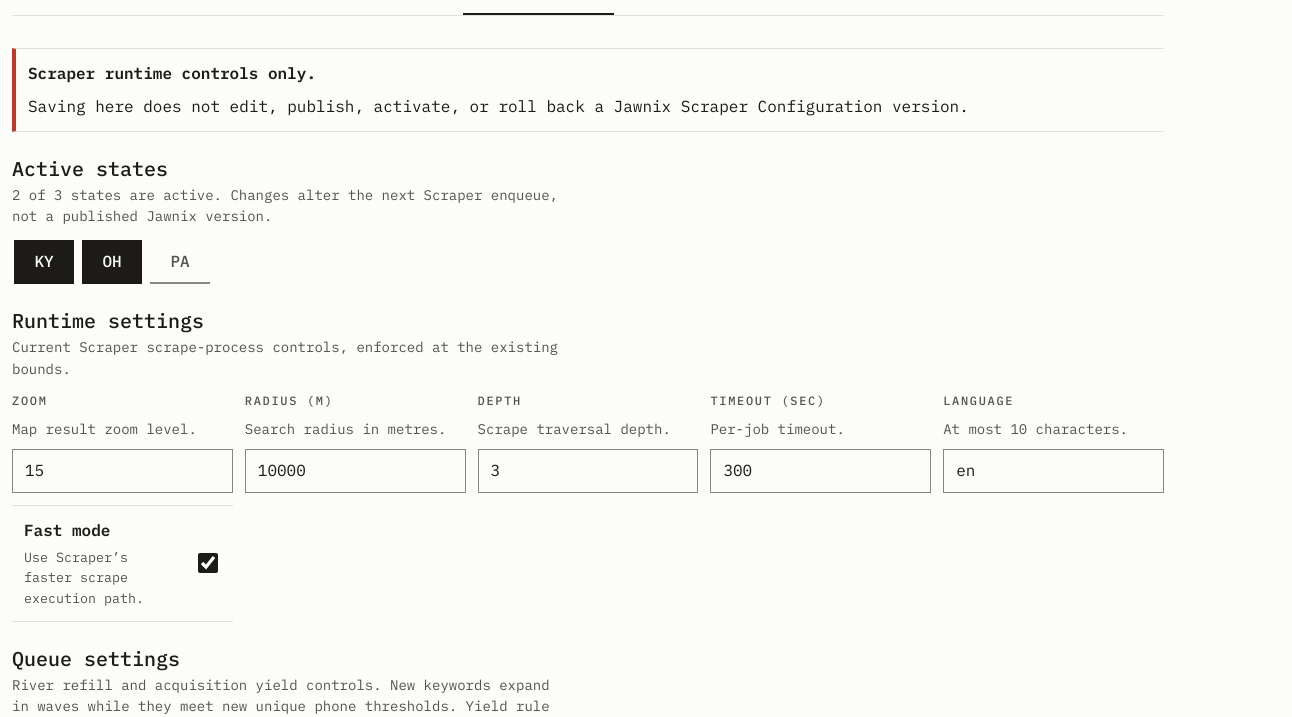
Test: runtime configuration parity › keeps save unavailable until exact preview and preserves enqueue
The image size is (1292, 717).
Replace the text in the number field labelled "Depth" with "5" at x=588, y=471, box [478,449,698,493]
(page scrolled)
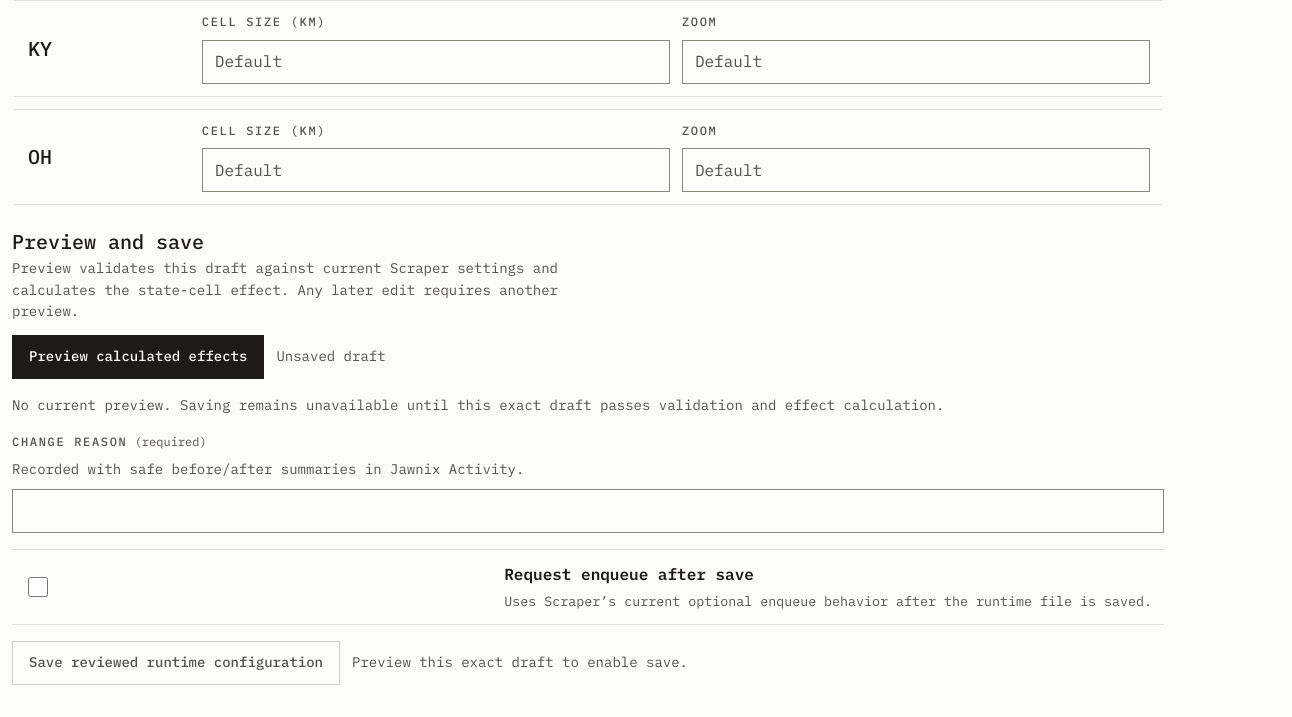
Click the button "Preview calculated effects" at x=138, y=357, box [12,335,264,379]
(page scrolled)
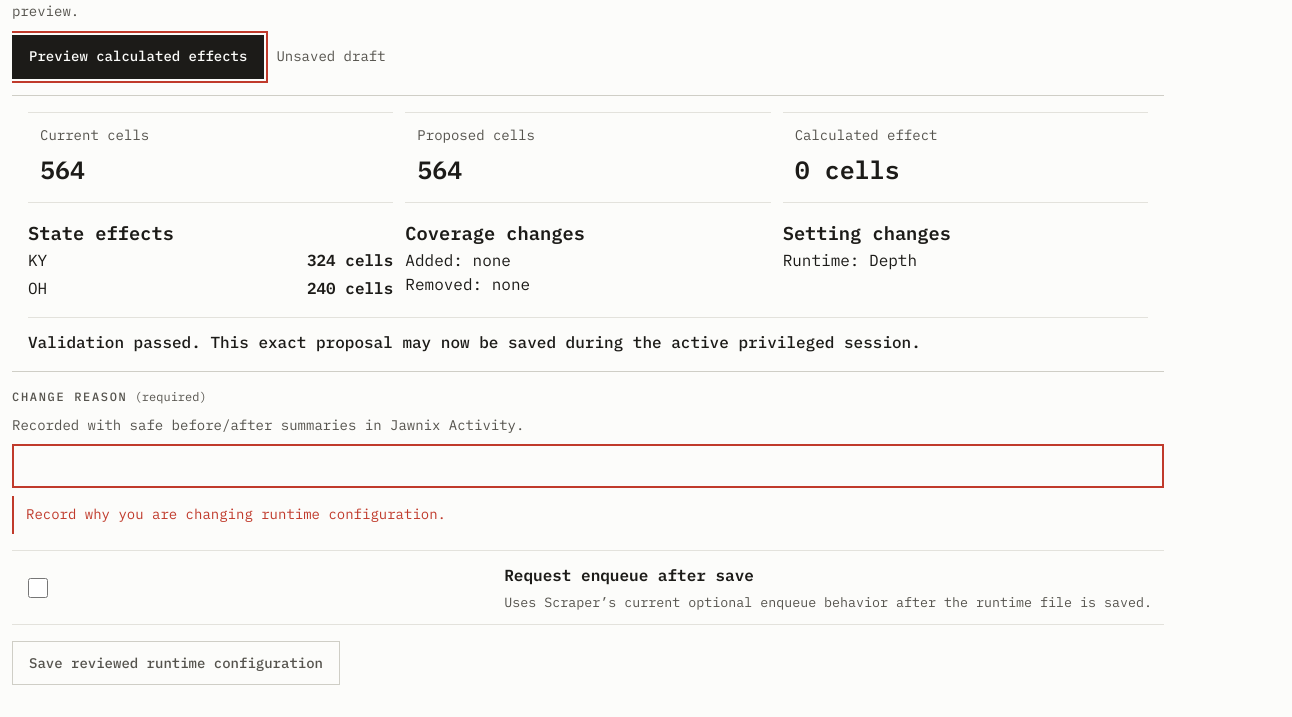
Check: the button "Save reviewed runtime configuration" is disabled, box [12,641,340,685]
Check: the element named "Runtime change preview" shows "Validation passed", box [28,332,921,352]
Type "Tune the reviewed campaign" into the field labelled "Change reason (required)" at x=588, y=466, box [12,444,1164,488]
(page scrolled)
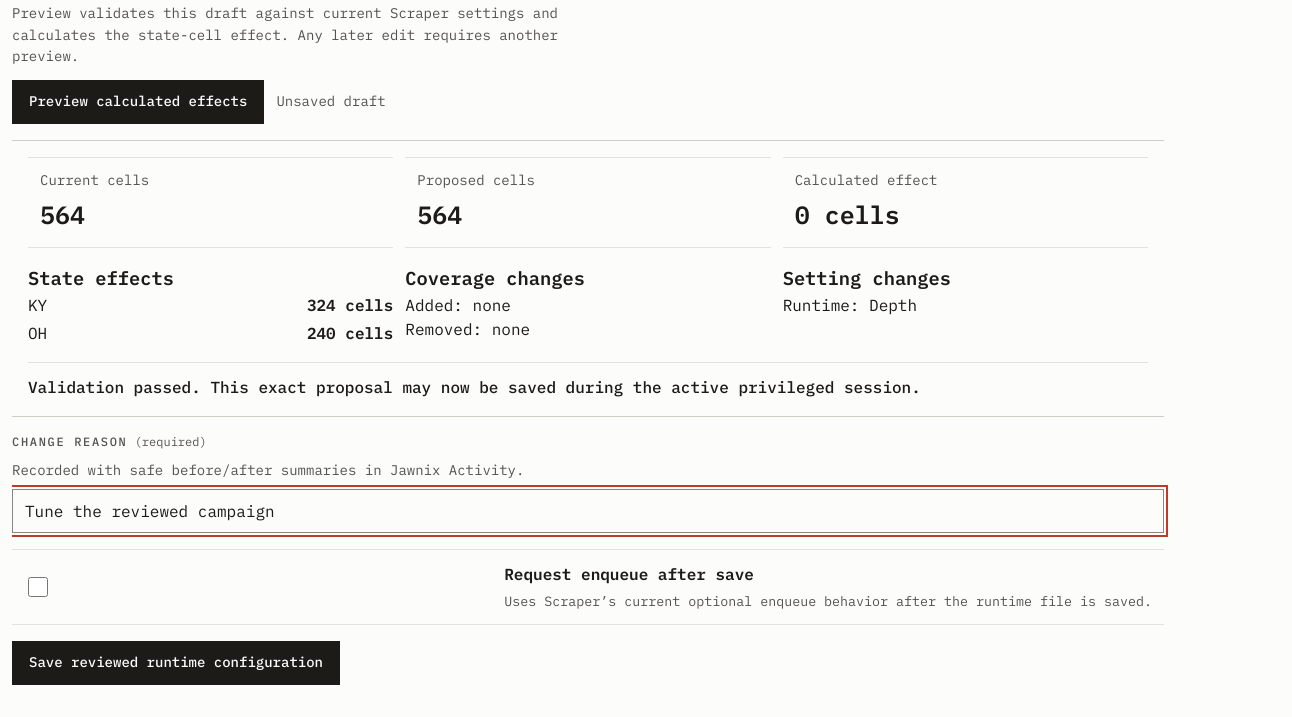
Click the checkbox labelled "Request enqueue after save" at x=38, y=587, box [28,577,48,597]
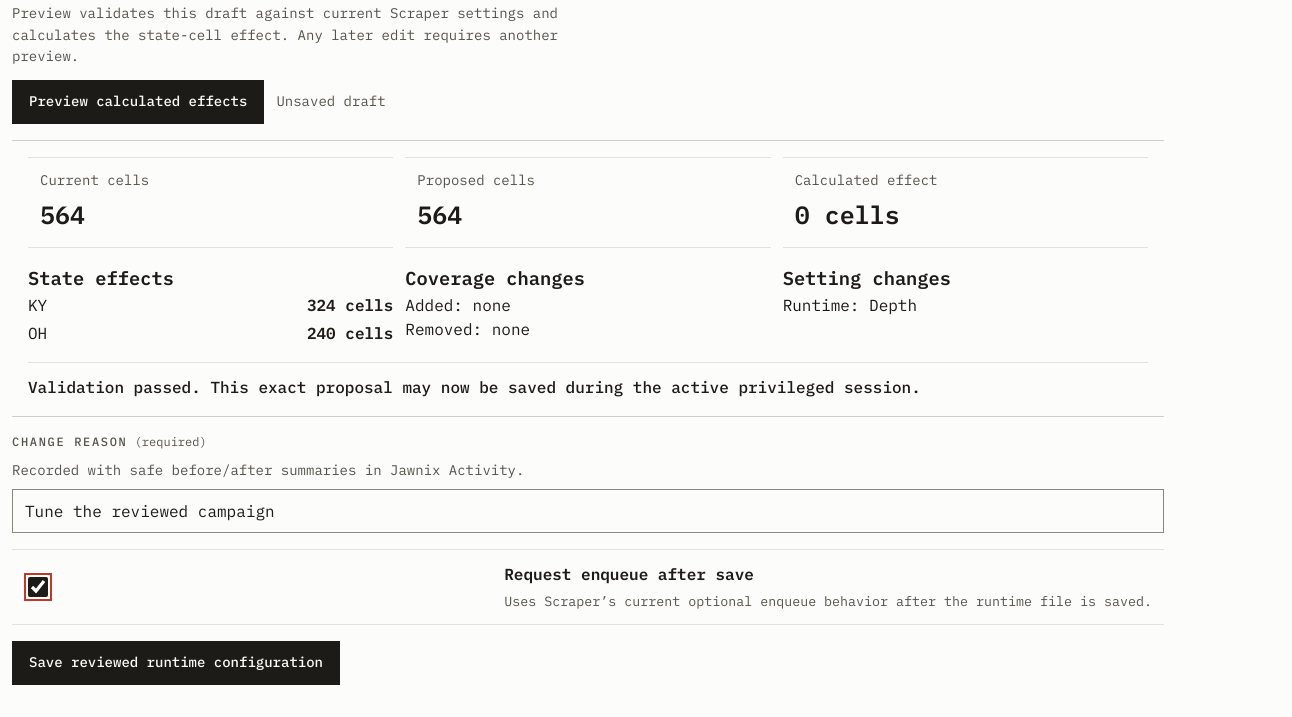
Check: the button "Save reviewed runtime configuration" is enabled
Click the button "Save reviewed runtime configuration" at x=176, y=663, box [12,641,340,685]
(page scrolled)
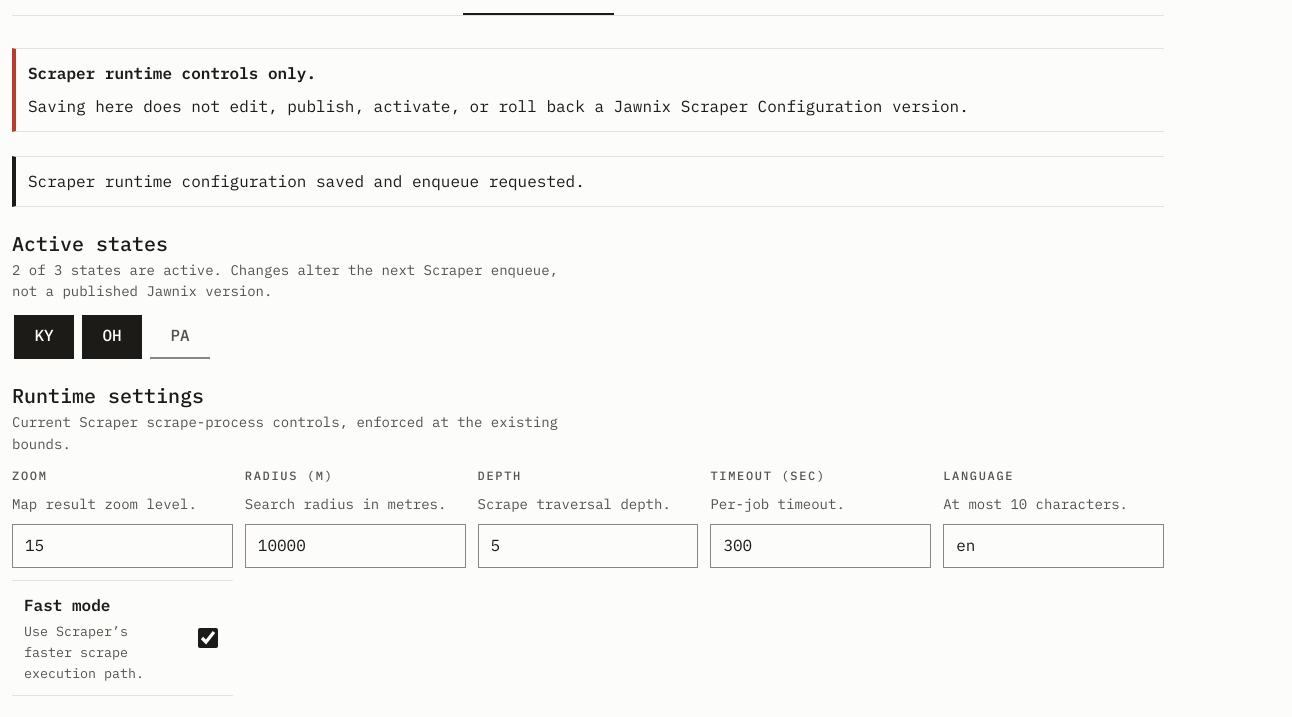
Check: the text "Scraper runtime configuration saved and enqueue requested." is shown, box [12,156,1164,206]
